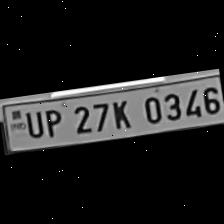0: (136, 92, 163, 125)
2: (65, 102, 94, 137)
3: (159, 90, 182, 122)
4: (180, 86, 202, 118)
6: (198, 82, 222, 116)
7: (88, 100, 111, 134)
K: (106, 96, 136, 132)
P: (40, 105, 66, 140)
U: (21, 108, 45, 140)
